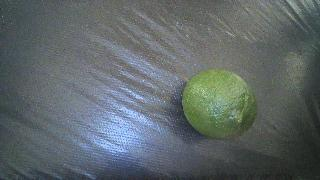DESECHO: (182, 69, 257, 139)
